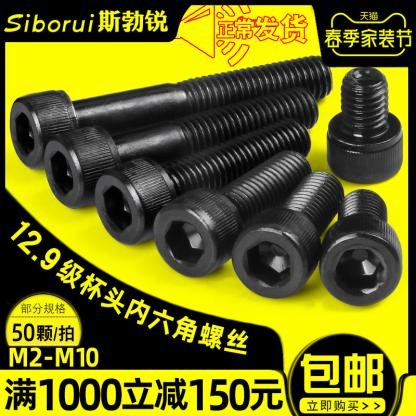FOD: (9, 53, 331, 168), (43, 86, 321, 210), (91, 116, 313, 246), (150, 147, 312, 279), (230, 170, 344, 299), (318, 185, 404, 307), (324, 64, 403, 184)
